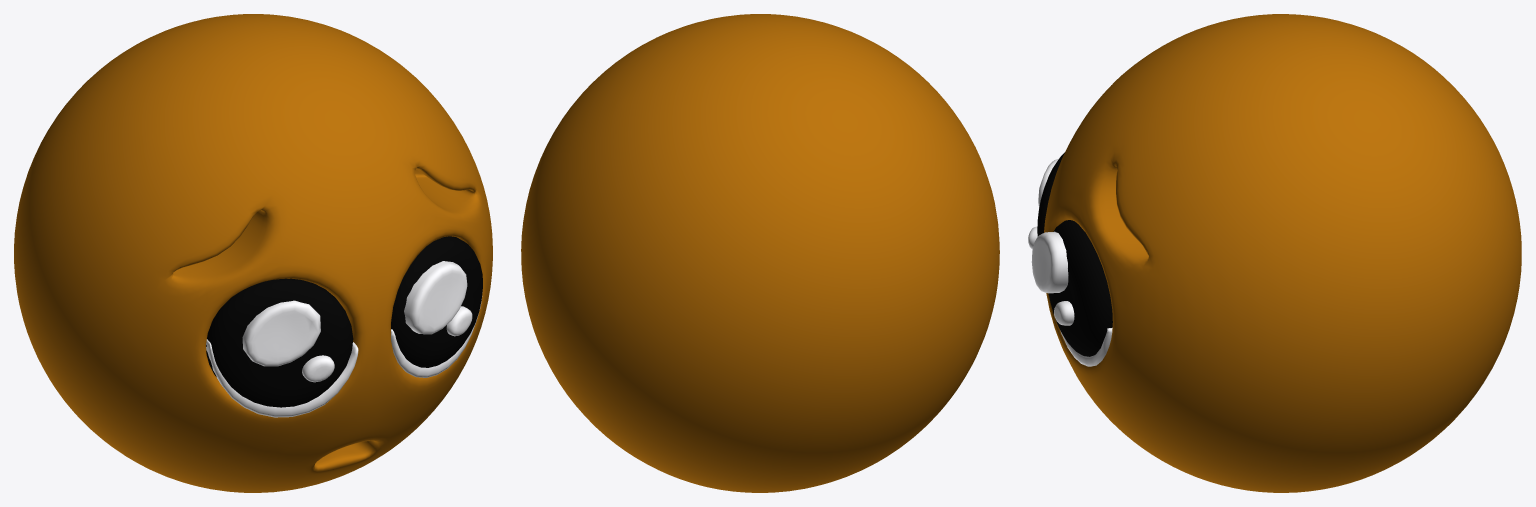
The model's file is Pleading_Eyes  FBX.FBX.
3 views of the same model, side by side, from view 1: azimuth 30°, elevation 25°; view 2: azimuth 150°, elevation 25°; view 3: azimuth 270°, elevation 25° (orthographic).
Visible parts, largest first — view 1: Pleading_Eyes, Pleading_Eyes4, Pleading_Eyes2, Pleading_Eyes5, Pleading_Eyes3; view 2: Pleading_Eyes; view 3: Pleading_Eyes, Pleading_Eyes4, Pleading_Eyes2, Pleading_Eyes3, Pleading_Eyes5.
Boxes of the visible parts, x1,y1,x2,y2 form: Pleading_Eyes: (14, 14, 492, 492); Pleading_Eyes4: (206, 236, 482, 407); Pleading_Eyes2: (242, 261, 467, 366); Pleading_Eyes5: (206, 292, 482, 417); Pleading_Eyes3: (302, 306, 472, 382); Pleading_Eyes: (521, 14, 999, 492); Pleading_Eyes: (1044, 14, 1521, 492); Pleading_Eyes4: (1037, 152, 1112, 356); Pleading_Eyes2: (1031, 159, 1068, 293); Pleading_Eyes3: (1028, 226, 1074, 325); Pleading_Eyes5: (1060, 327, 1112, 366).
Bounding box in the file's own units: 22.7 × 22.71 × 23.41.
